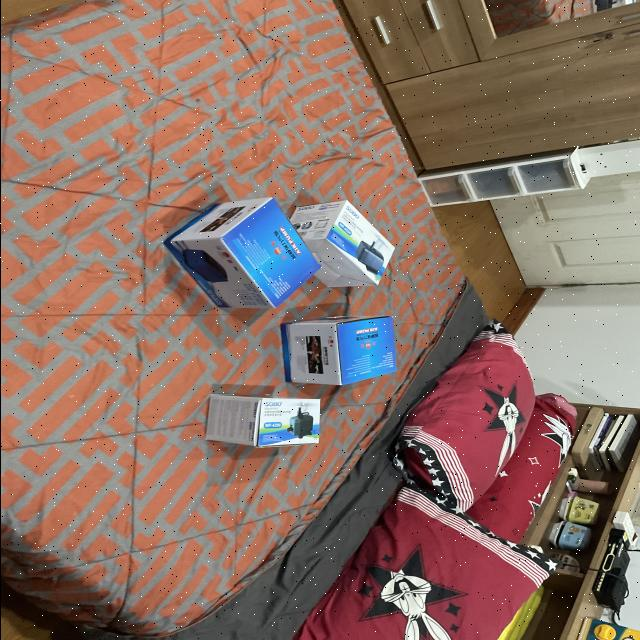SOBO_WP_4200: (278, 188, 410, 292), (186, 386, 334, 452)
YAMANO_LPP_20: (155, 190, 313, 316), (269, 308, 403, 390)
